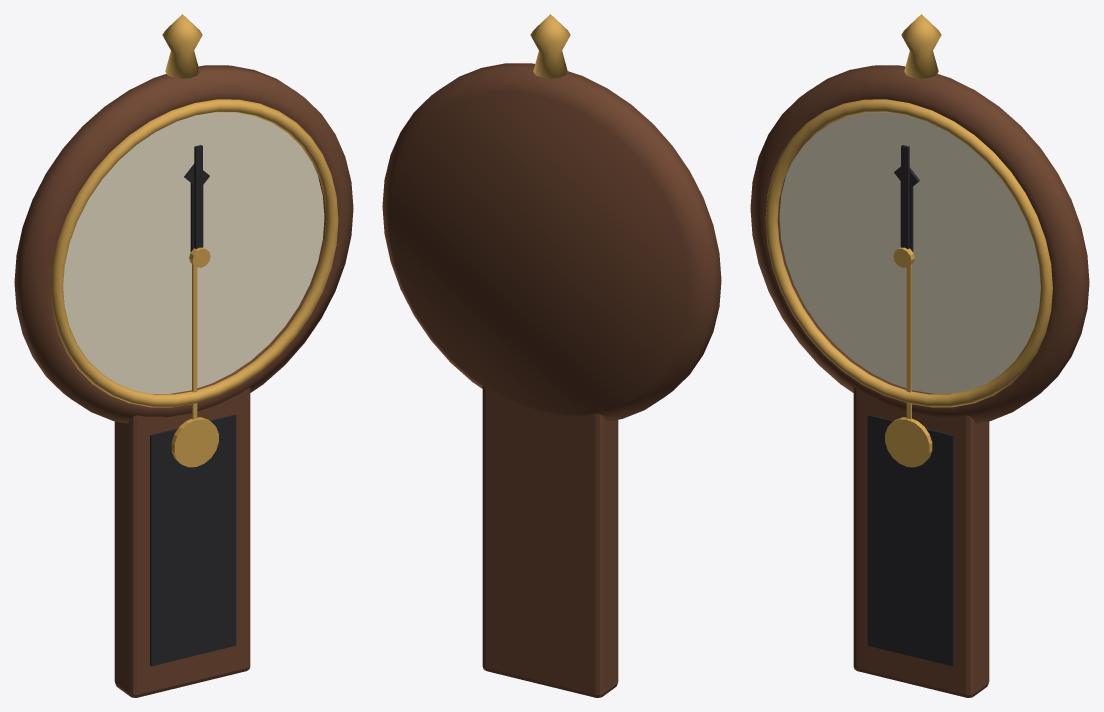
File: clock.glb
3 views of the same model, side by side, from view 1: azimuth 30°, elevation 25°; view 2: azimuth 150°, elevation 25°; view 3: azimuth 330°, elevation 25° (orthographic).
Visible parts, largest first — view 1: ClockBody, Pendulum, MinuteHand, HourHand; view 2: ClockBody; view 3: ClockBody, Pendulum, MinuteHand, HourHand.
Boxes of the visible parts, x1,y1,x2,y2 form: ClockBody: [14, 14, 353, 697]; Pendulum: [171, 264, 218, 467]; MinuteHand: [189, 145, 210, 267]; HourHand: [184, 164, 209, 251]; ClockBody: [382, 14, 721, 697]; ClockBody: [750, 14, 1089, 697]; Pendulum: [885, 264, 932, 467]; MinuteHand: [893, 145, 914, 267]; HourHand: [894, 166, 919, 251].
Size of the model in its own units: 0.66 by 1.27 by 0.106.
